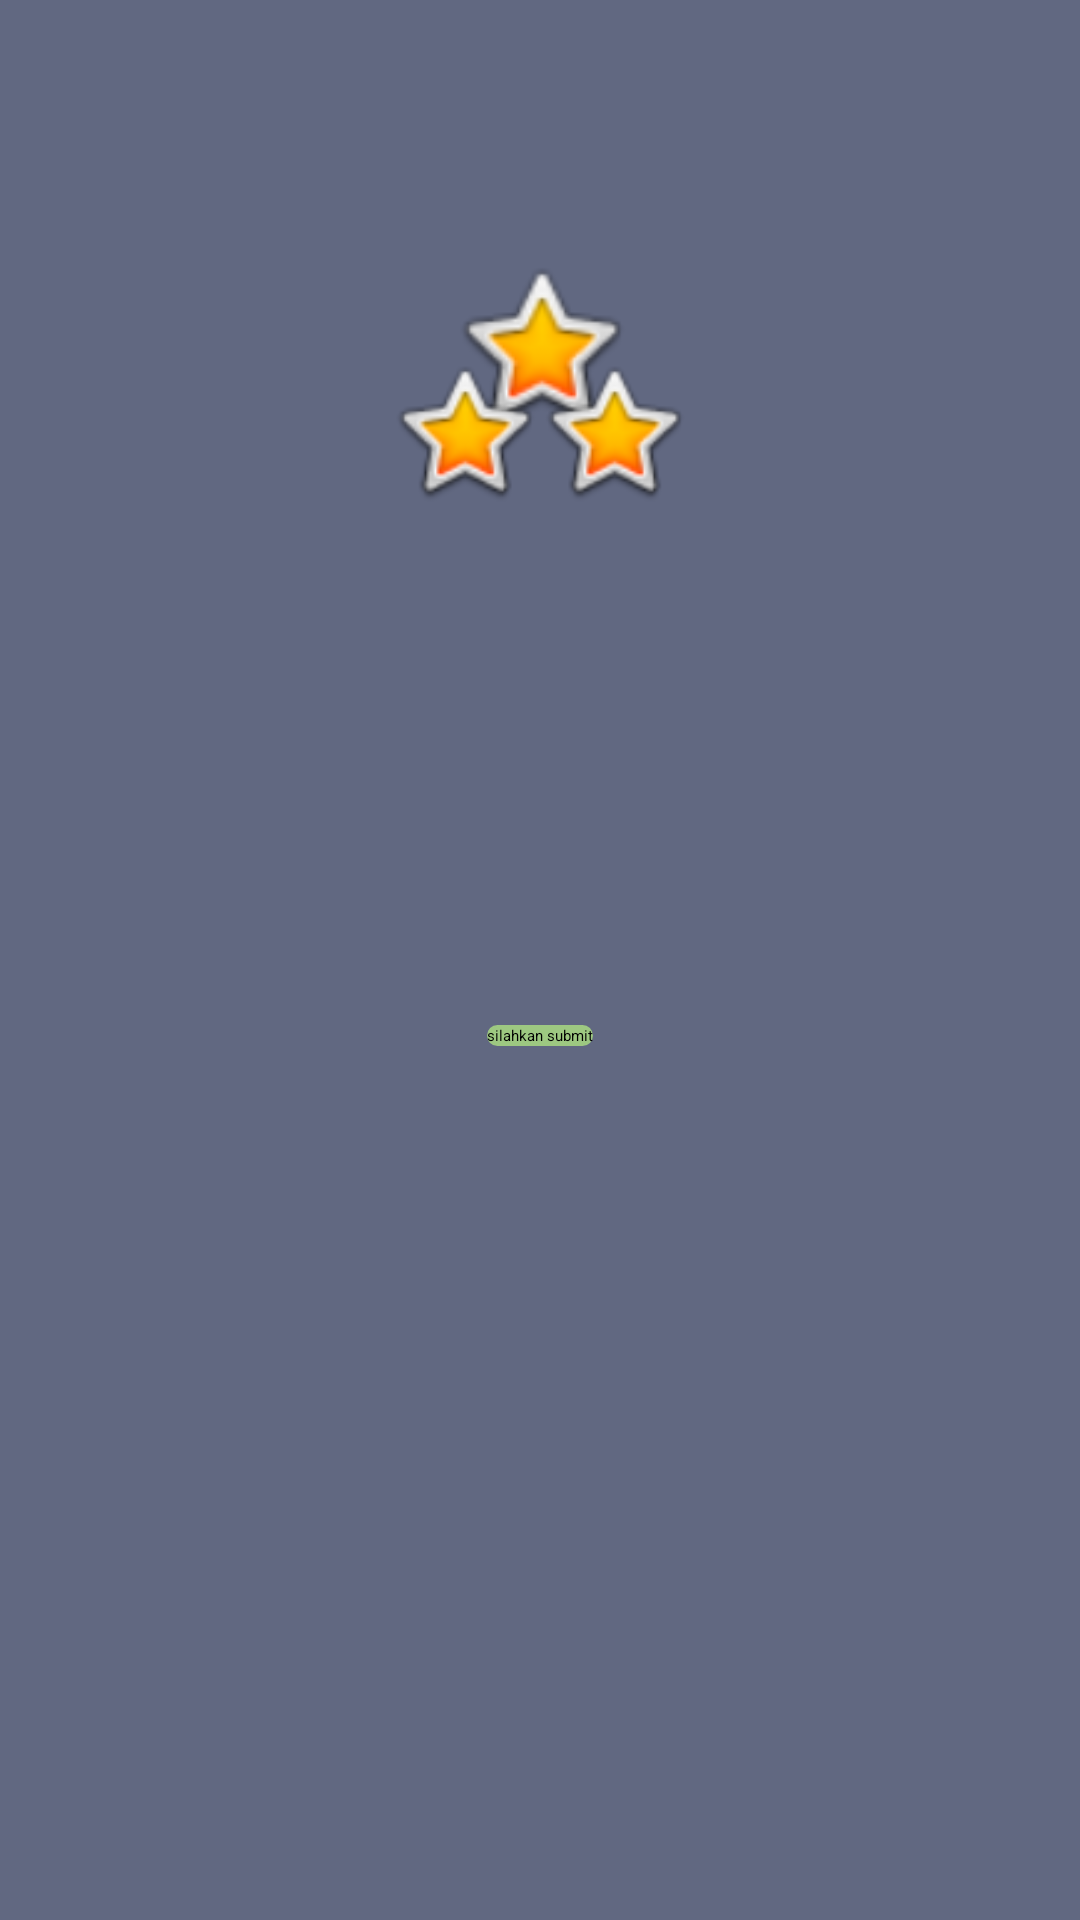

Icons on this 1080*1920 Android screen, each with its box as (x1, y1, x2, y2):
star on: (446, 274, 635, 449), (401, 352, 557, 496), (519, 352, 680, 496)
